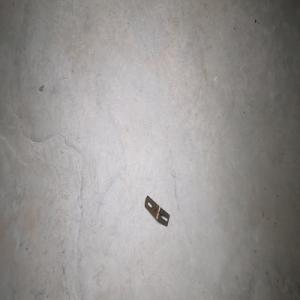MetalPart: (144, 194, 170, 227)
